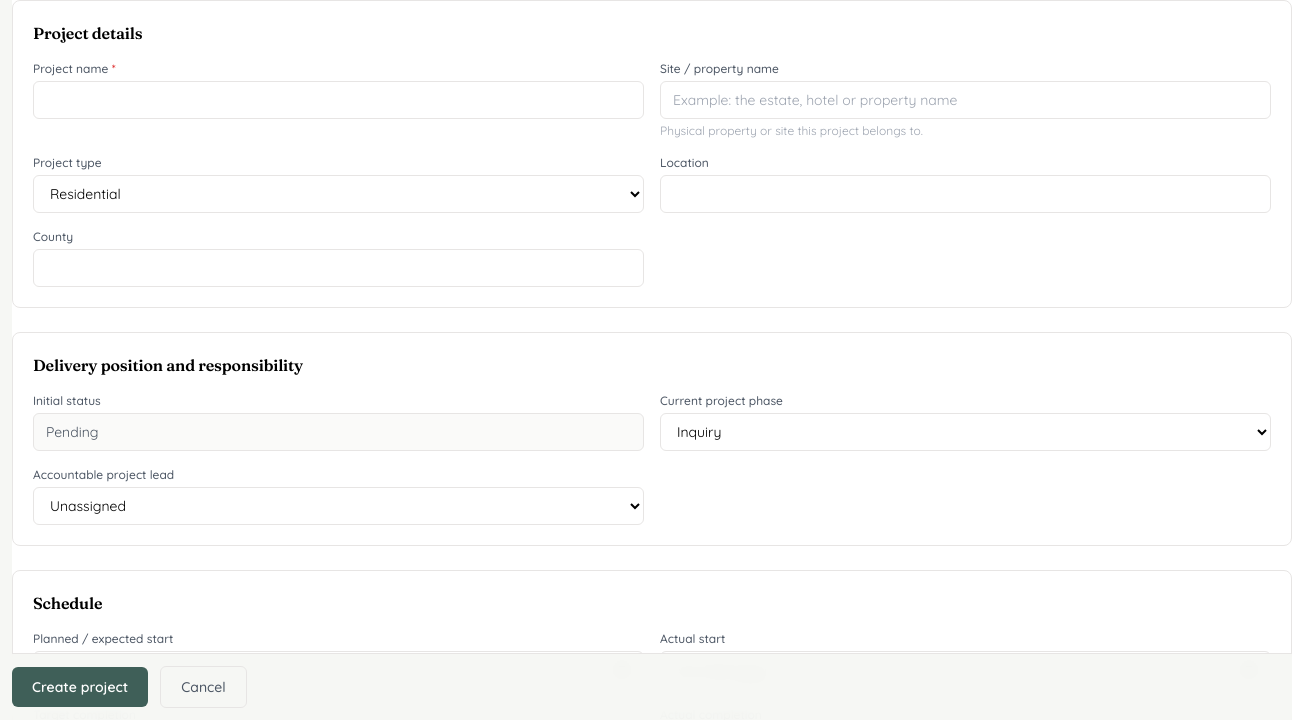
Scenario: owner form › derives status from the chosen delivery phase and offers no contradictory phases
Select "Site Assessment" in the dropdown labelled "Current project phase" at (966, 432), box [660, 413, 1271, 451]
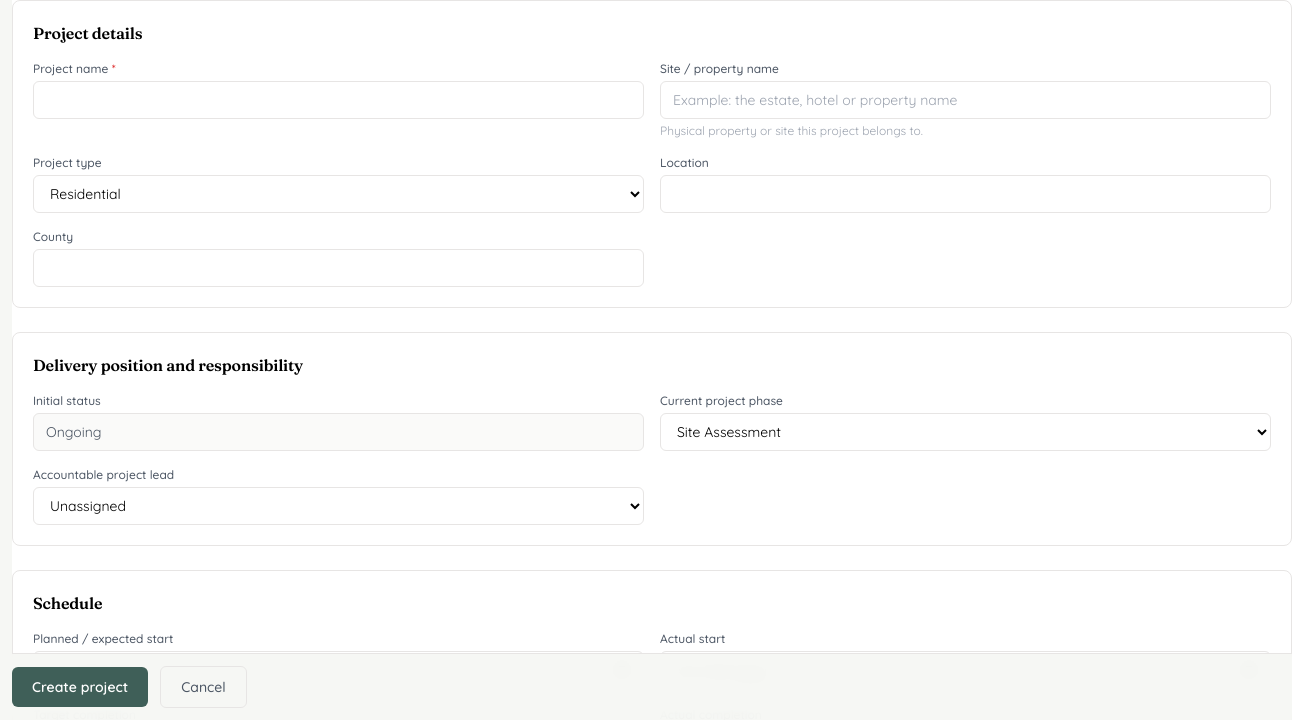
Check: the text "Ongoing" is shown, box [33, 413, 644, 451]
Select "Implementation" in the dropdown labelled "Current project phase" at (966, 432), box [660, 413, 1271, 451]
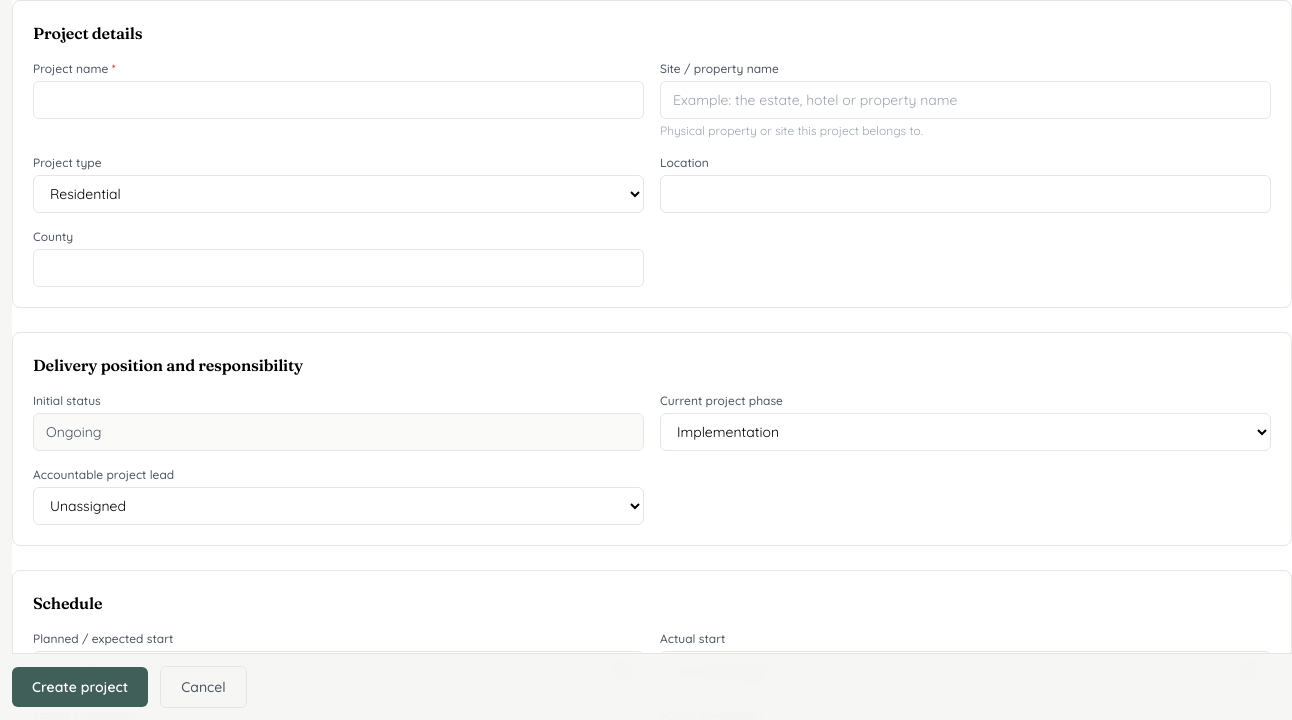
Check: the text "Ongoing" is shown, box [33, 413, 644, 451]
Select "Completed" in the dropdown labelled "Current project phase" at (966, 432), box [660, 413, 1271, 451]
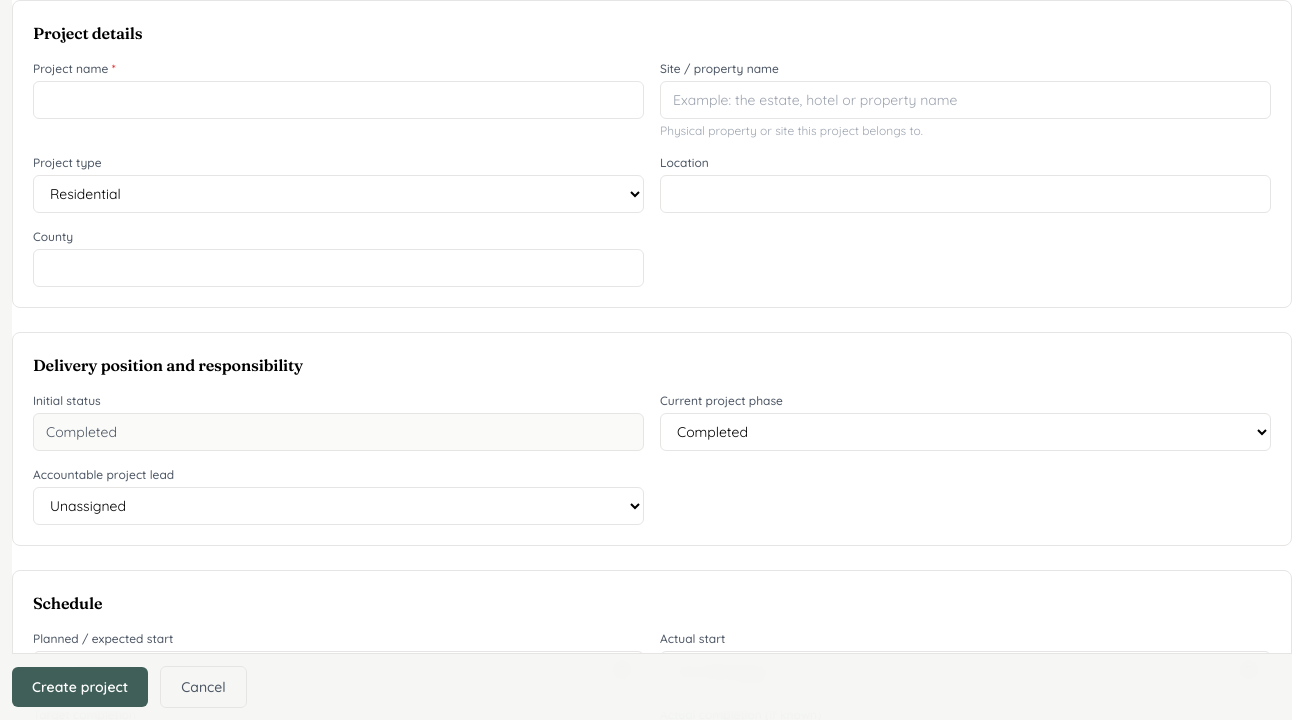
Check: the text "Completed" is shown, box [33, 413, 644, 451]
